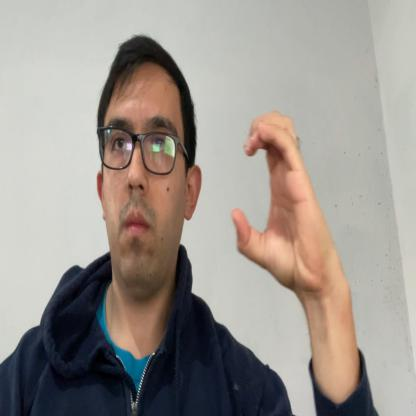C: (230, 111, 328, 291)
